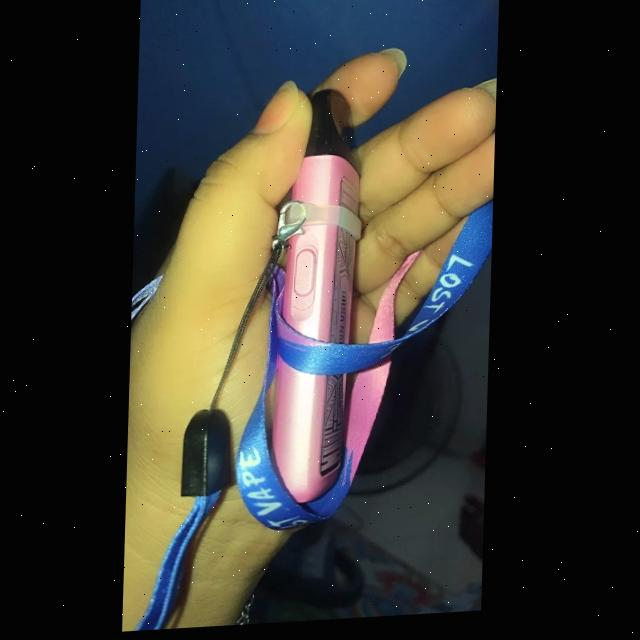vape: (270, 89, 364, 506)
